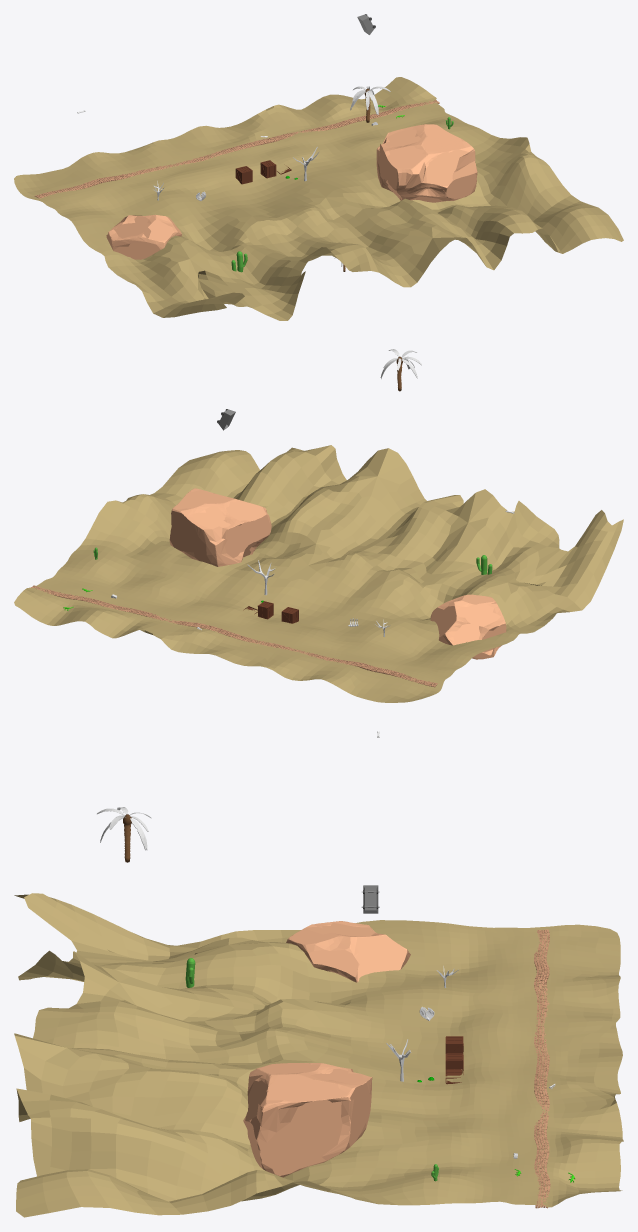
Rendered from A boy and his cross OPENING.fbx.
The picture shows the model from 3 angles, top to bottom: view 1: azimuth 30°, elevation 25°; view 2: azimuth 150°, elevation 25°; view 3: azimuth 270°, elevation 25°; orthographic projection. The views are drawn at different scales.
Parts seen in each view (by area): view 1: Plane, Cube.005, Cube.006, Cube.002, Cylinder; view 2: Plane, Cube.005, Cube.006, Cube.002, Cylinder; view 3: Plane, Cube.005, Cube.006, Cube.002, Cylinder.
Boxes of the visible parts, x1=… form: Plane: x1=14, y1=77, x2=623, y2=320; Cube.005: x1=376, y1=124, x2=477, y2=202; Cube.006: x1=106, y1=214, x2=181, y2=259; Cube.002: x1=34, y1=100, x2=439, y2=198; Cylinder: x1=350, y1=86, x2=390, y2=122; Plane: x1=14, y1=445, x2=623, y2=702; Cube.005: x1=169, y1=488, x2=271, y2=566; Cube.006: x1=430, y1=594, x2=506, y2=659; Cube.002: x1=31, y1=585, x2=437, y2=687; Cylinder: x1=380, y1=349, x2=421, y2=391; Plane: x1=14, y1=893, x2=623, y2=1217; Cube.005: x1=243, y1=1063, x2=372, y2=1177; Cube.006: x1=286, y1=921, x2=410, y2=982; Cube.002: x1=534, y1=929, x2=550, y2=1208; Cylinder: x1=97, y1=807, x2=151, y2=862.
Bounding box in the file's own units: 36730 × 16819 × 32229.
